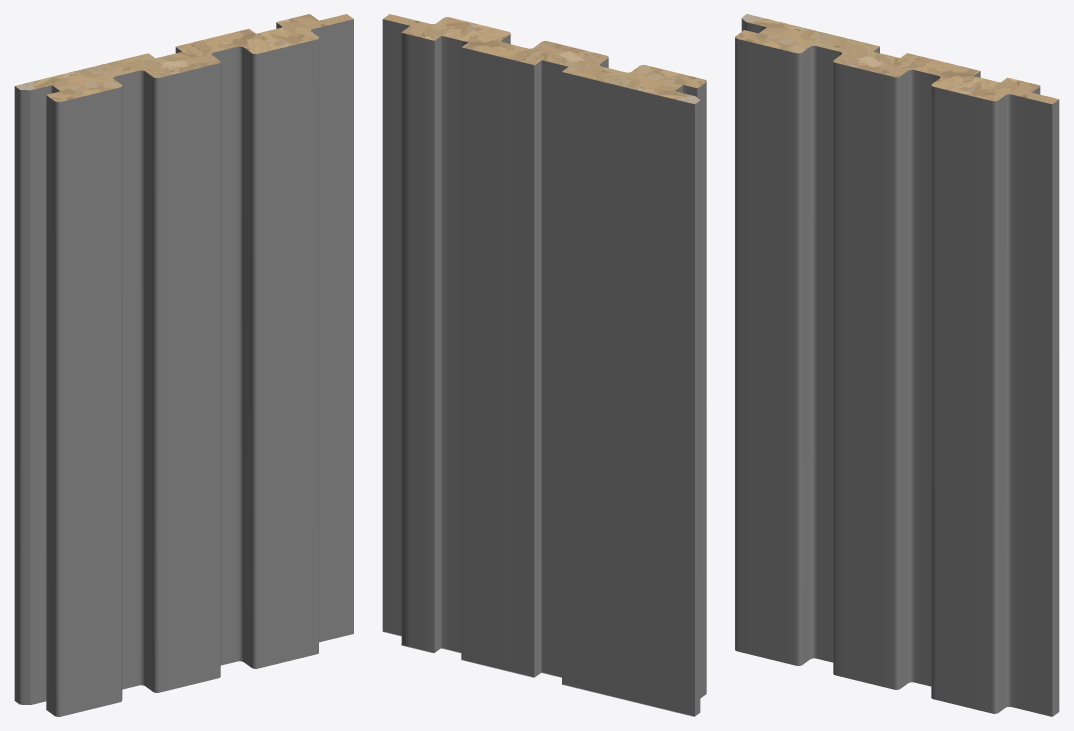
Rendered from Atlas.glb.
3 renders of one model, left to right at view 1: azimuth 30°, elevation 25°; view 2: azimuth 150°, elevation 25°; view 3: azimuth 330°, elevation 25°, orthographic.
Parts seen in each view (by area): view 1: root; view 2: root; view 3: root.
Boxes of the visible parts, box(x1,y1,x2,y2) form: root: box(14, 14, 353, 716); root: box(382, 14, 706, 716); root: box(735, 14, 1059, 716).
Bounding box in the file's own units: 0.12 × 0.2183 × 0.0184.
2 materials, 1 textured.
